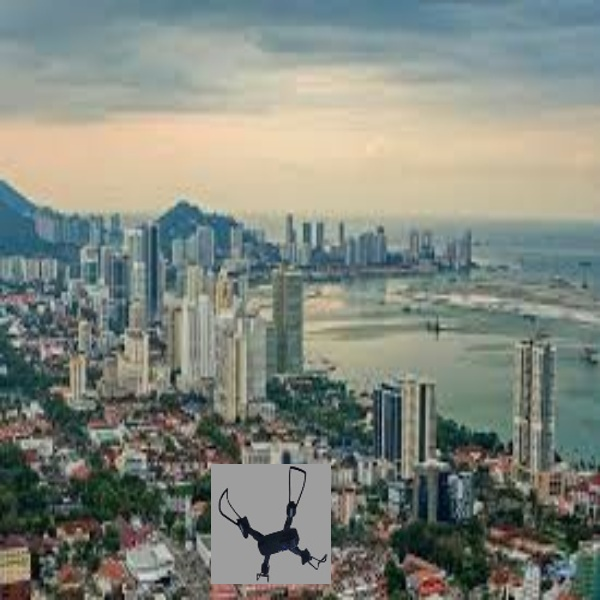drone: (213, 464, 330, 585)
